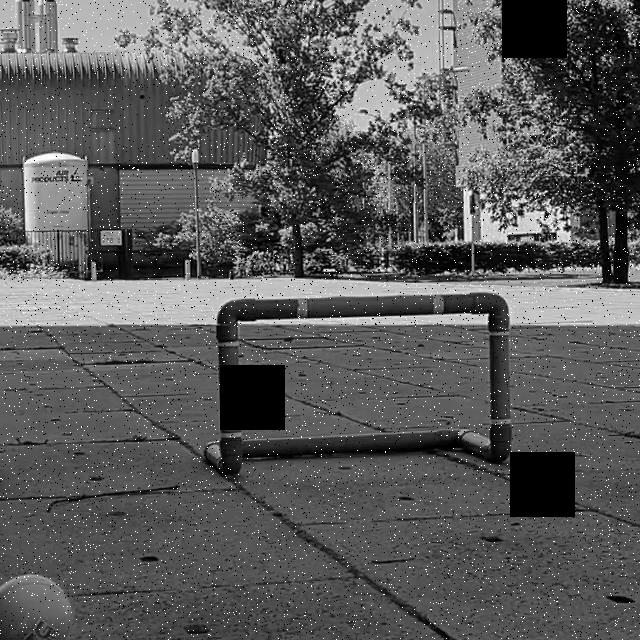ball: (1, 571, 73, 640)
